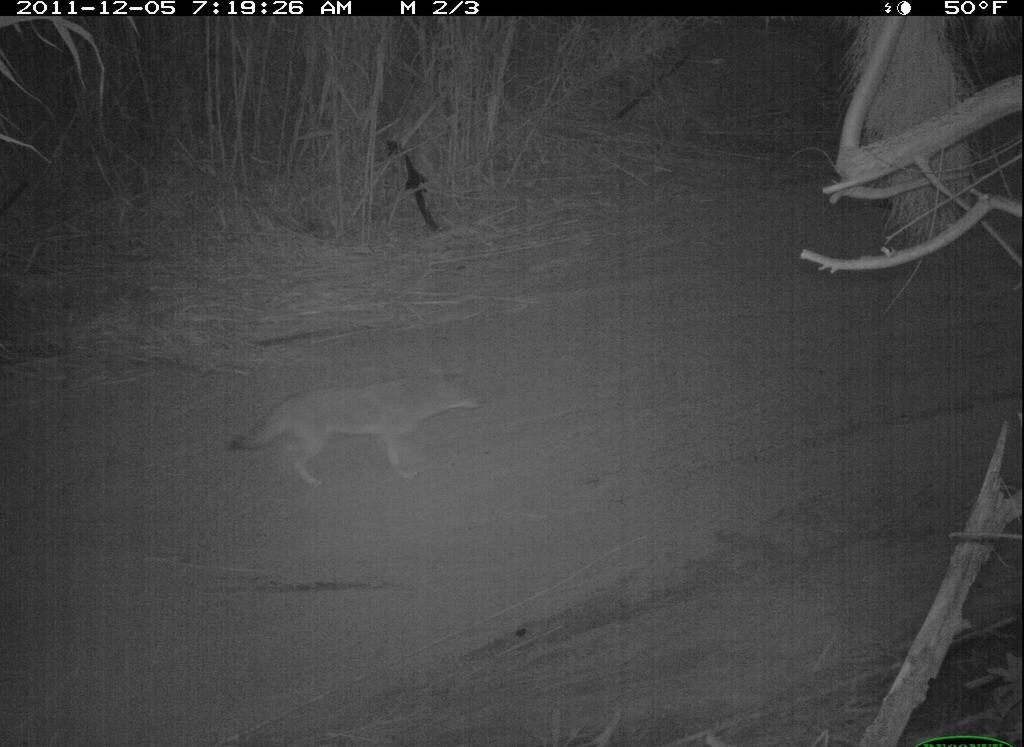coyote: (226, 355, 491, 495)
